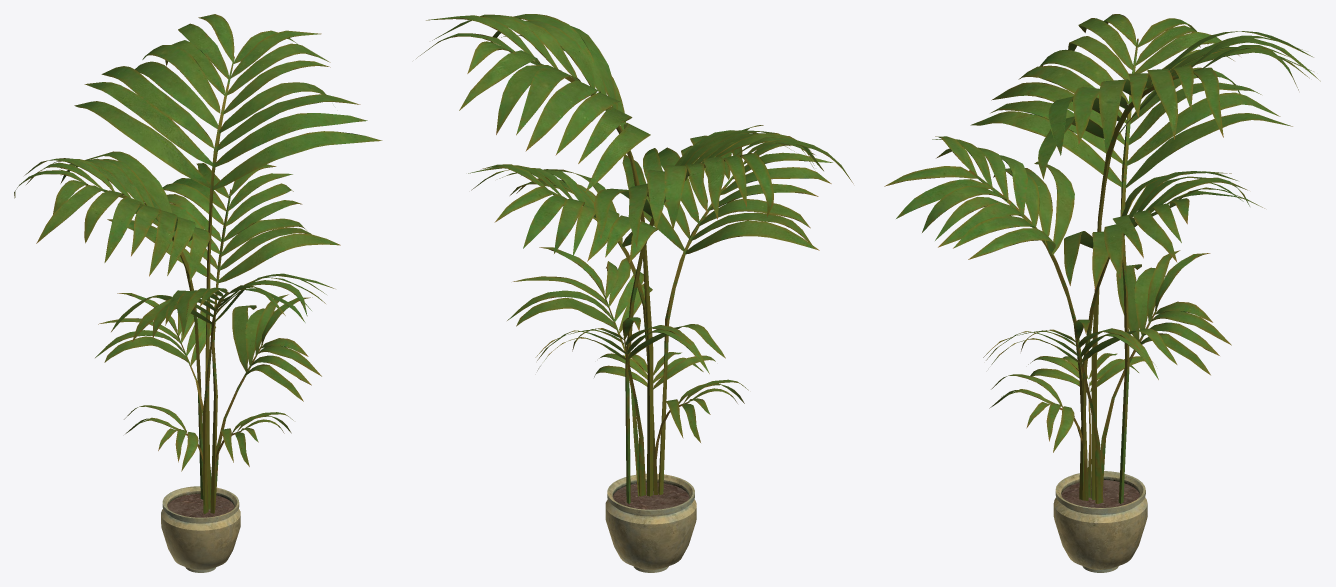
The model's file is plant-palm-large.glb.
3 renders of one model, left to right at view 1: azimuth 30°, elevation 25°; view 2: azimuth 150°, elevation 25°; view 3: azimuth 270°, elevation 25°, orthographic. The views are drawn at different scales.
Parts seen in each view (by area): view 1: plant-palm-large; view 2: plant-palm-large; view 3: plant-palm-large.
Part boxes in pixels (left/top/right/bottom): plant-palm-large: left=14, top=14, right=382, bottom=572; plant-palm-large: left=416, top=14, right=853, bottom=572; plant-palm-large: left=884, top=14, right=1320, bottom=572.
Bounding box in the file's own units: 0.9278 × 1.28 × 0.8975.
1 material, 1 textured.
